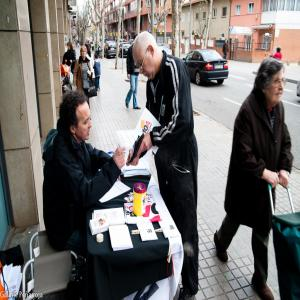Vehicle-registration-plate: (215, 66, 225, 70)
